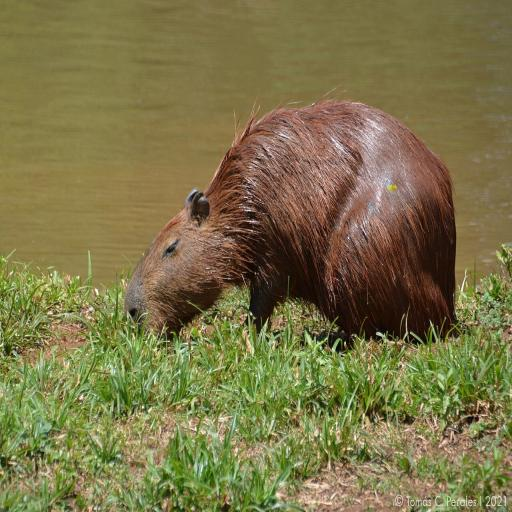capybara: (125, 101, 455, 336)
